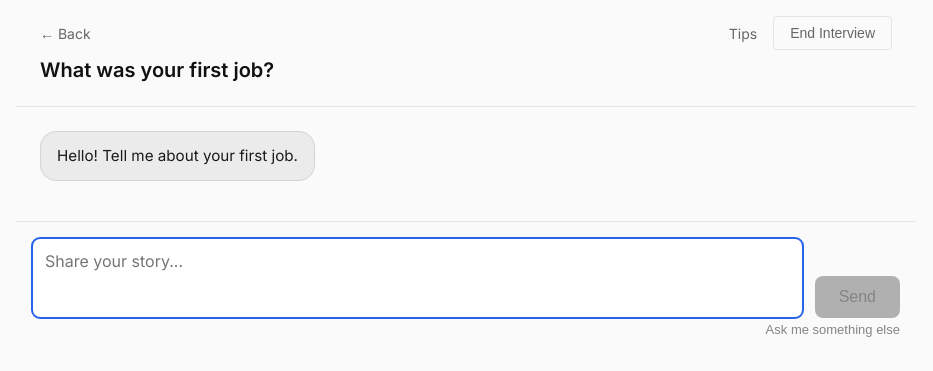
it: InterviewSession › AI-initiated completion › shows completion message and hides input when shouldComplete is true
Type "Yes, let's wrap up." into the text box with placeholder "Share your story...". click: point(417, 278)
box: [32,238,803,318]
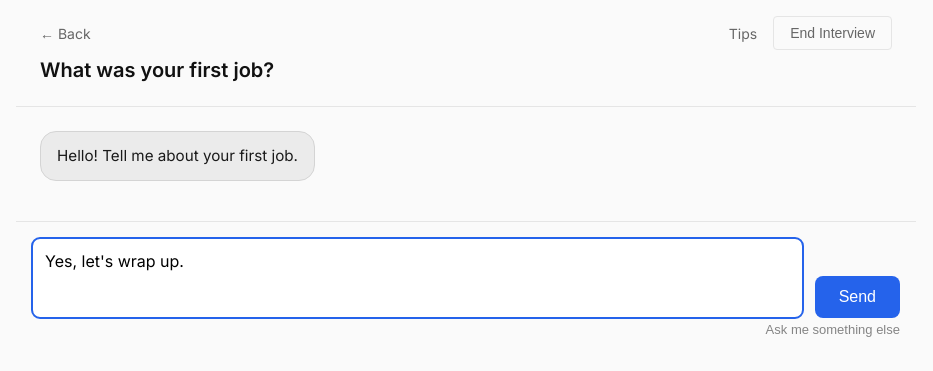
Press Enter
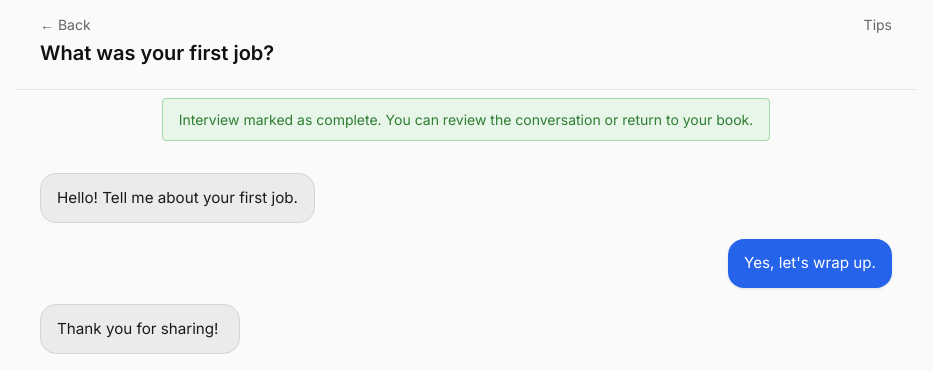
Now the text "Thank you for sharing!" is shown, box [40,304,240,354]
Now the text "Interview marked as complete" is shown, box [179,111,753,128]
Now the button "End Interview" is gone
